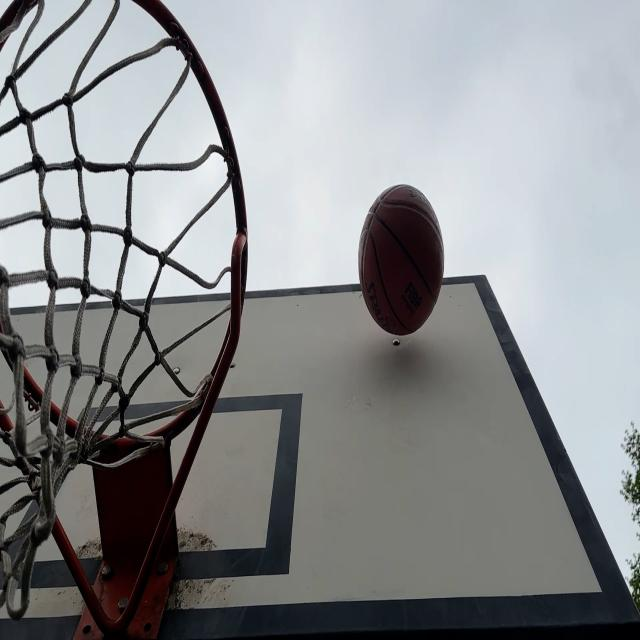Basketball: (357, 182, 441, 339)
